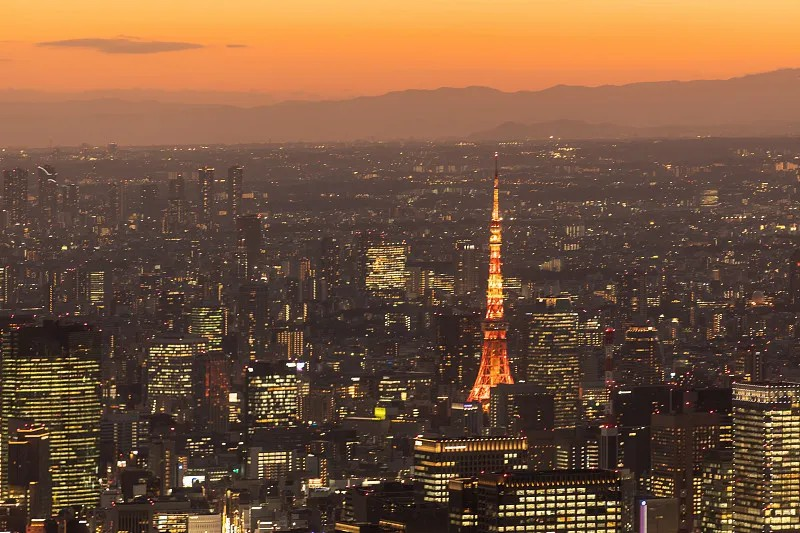Tokyo: (465, 150, 516, 403)
